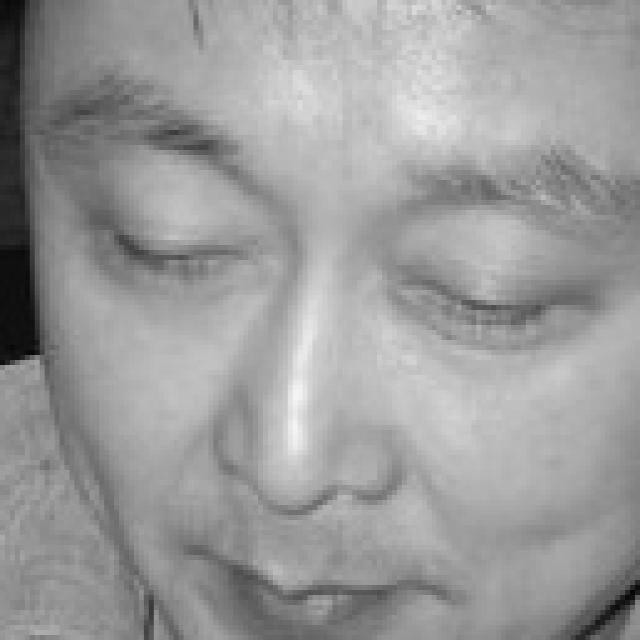real: (25, 0, 640, 639), (106, 168, 568, 358)
